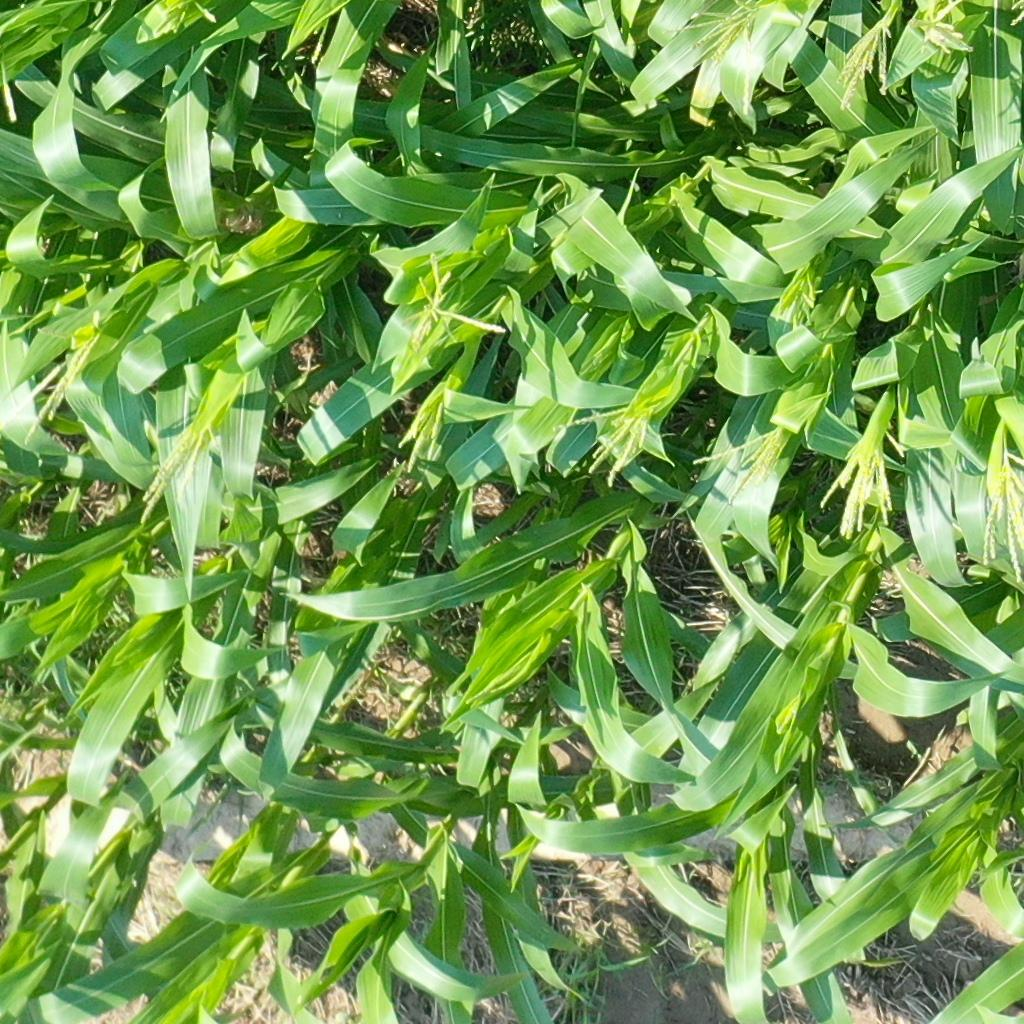Tassel: (380, 248, 512, 376), (1, 329, 99, 452), (821, 426, 907, 543), (546, 400, 655, 488), (133, 421, 210, 527), (688, 417, 788, 498), (666, 1, 773, 68), (981, 446, 1024, 585), (833, 15, 890, 115), (392, 386, 447, 476), (909, 1, 971, 59), (766, 273, 827, 330), (145, 1, 220, 38)
